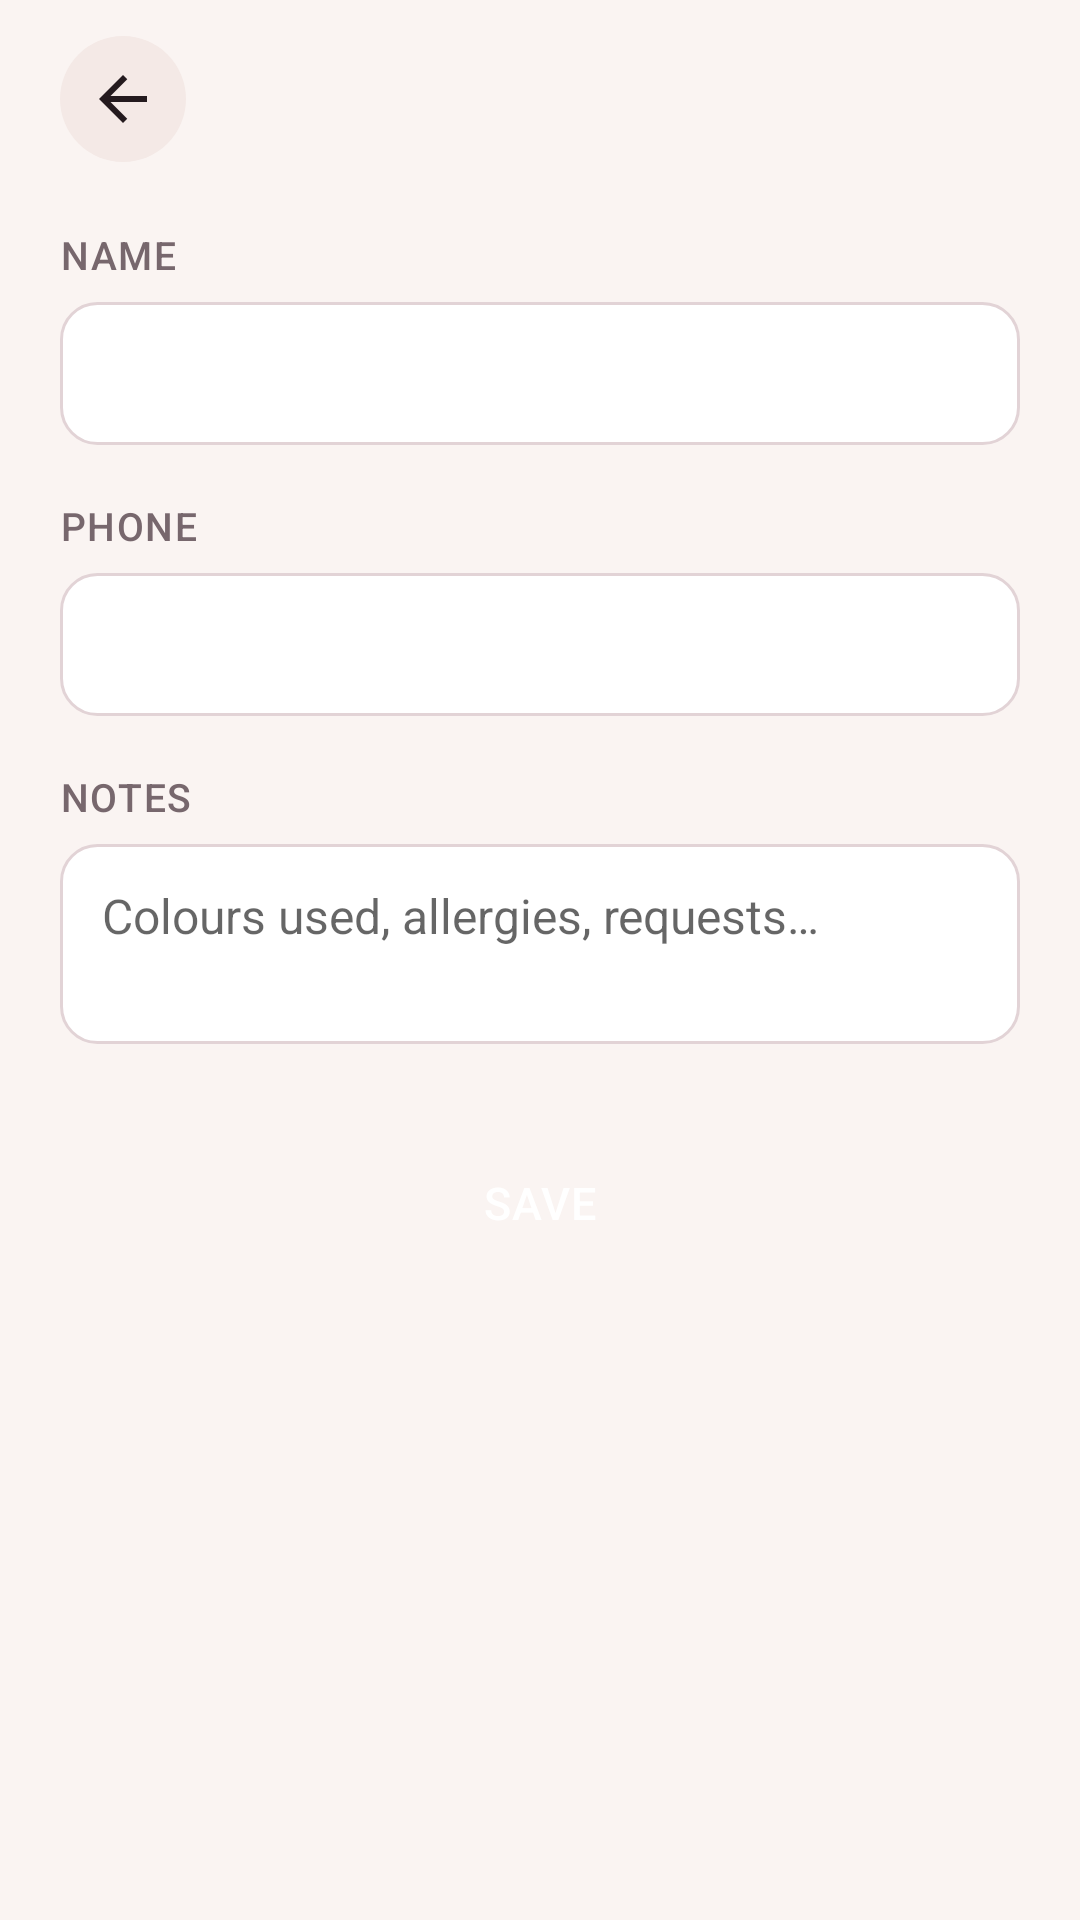

Icon click points for this 1080 × 1920 phone screenshot, format [x,y]:
back: [123,99]
